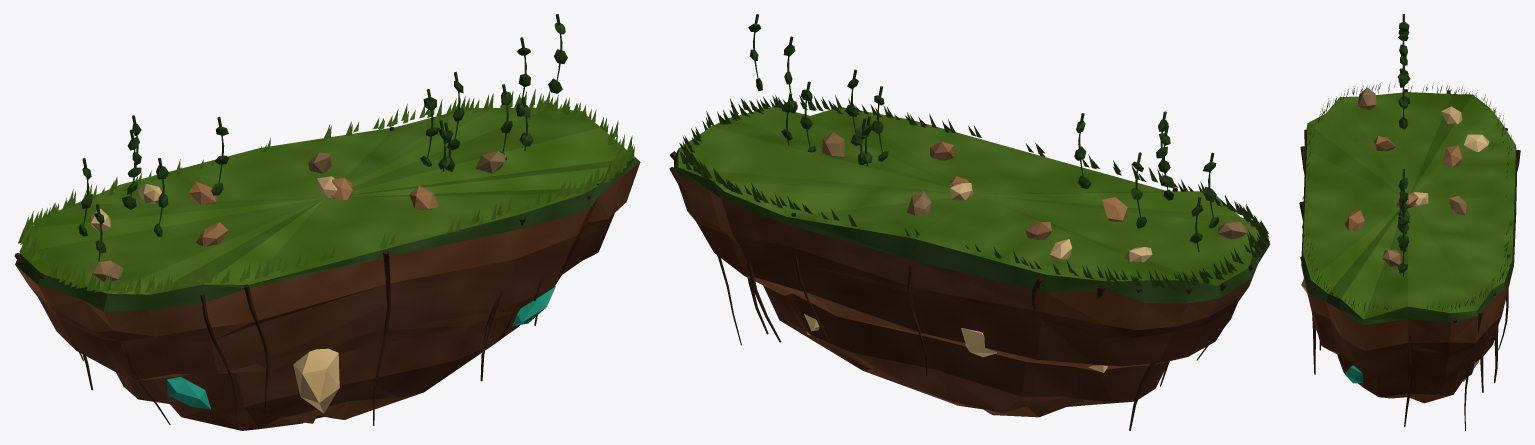
File: floating_earth_wall_ground.obj
The picture shows the model from 3 angles, left to right: view 1: azimuth 30°, elevation 25°; view 2: azimuth 150°, elevation 25°; view 3: azimuth 270°, elevation 25°; orthographic projection. The views are drawn at different scales.
Visible parts, largest first — view 1: FloatingEarthWall_ground; view 2: FloatingEarthWall_ground; view 3: FloatingEarthWall_ground.
Boxes of the visible parts, x1,y1,x2,y2 form: FloatingEarthWall_ground: (14,14,640,430); FloatingEarthWall_ground: (669,14,1270,430); FloatingEarthWall_ground: (1299,14,1520,430).
Bounding box in the file's own units: 12.62 × 7.36 × 5.13.
